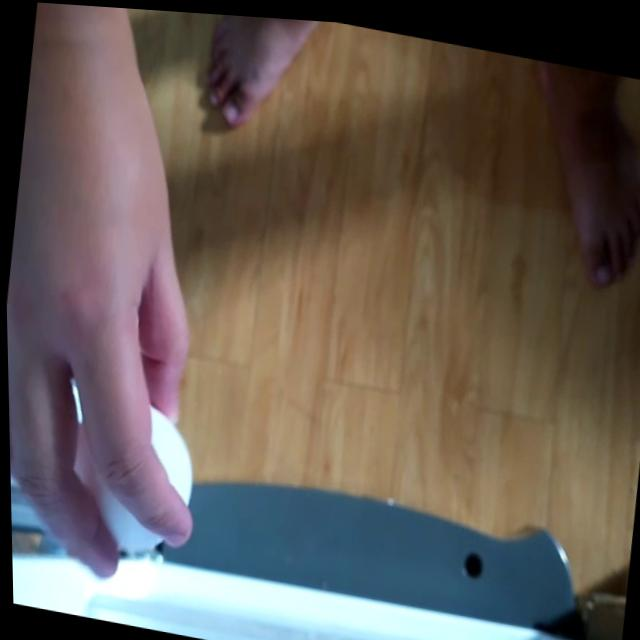egg: (68, 393, 193, 563)
